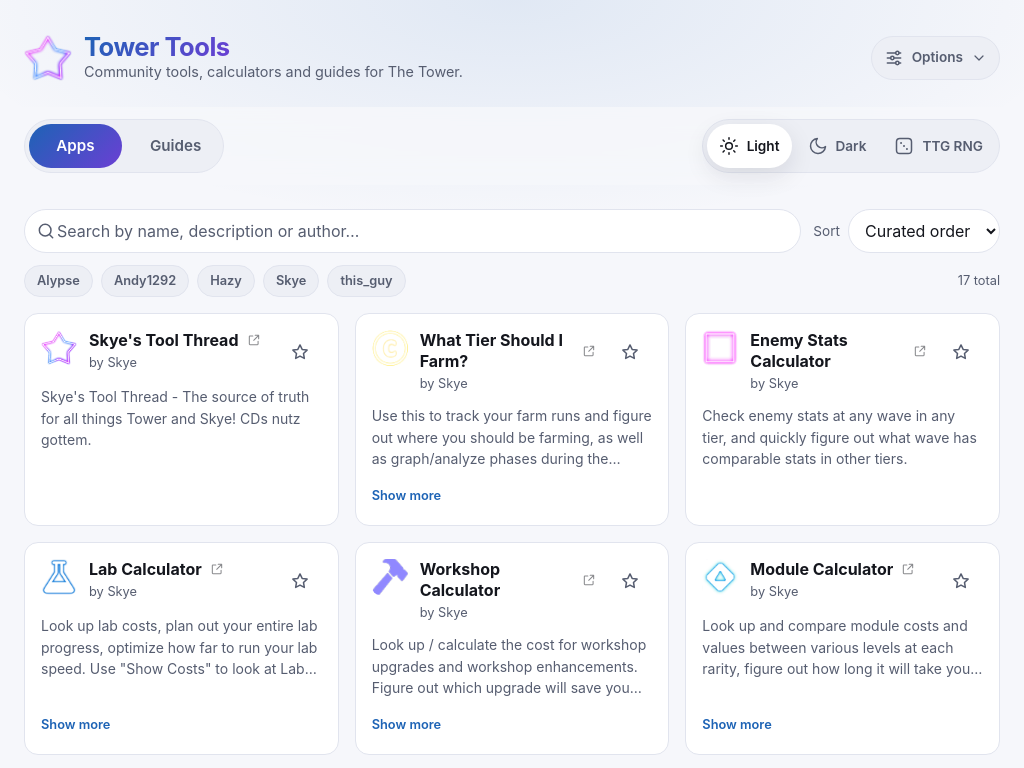
Test case: app shell › switches between apps and guides
Click the button "Guides".
click(172, 146)  # box 126,124 -> 219,168
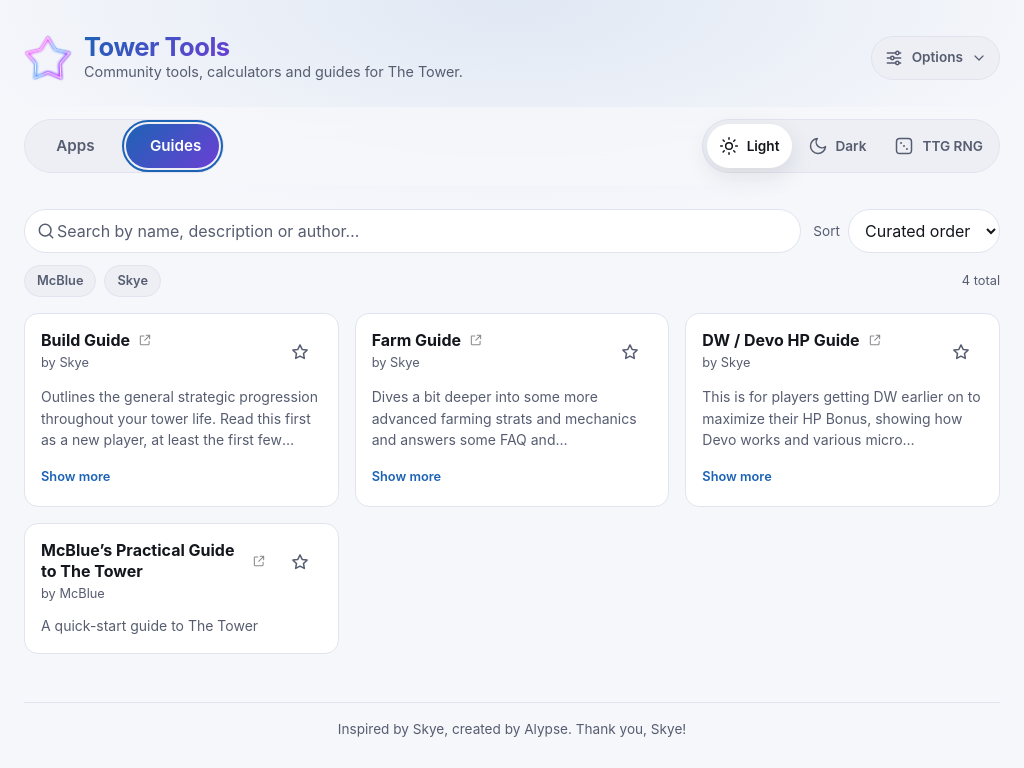
Result: the link "Build Guide" is shown at 41,330 -> 152,351
